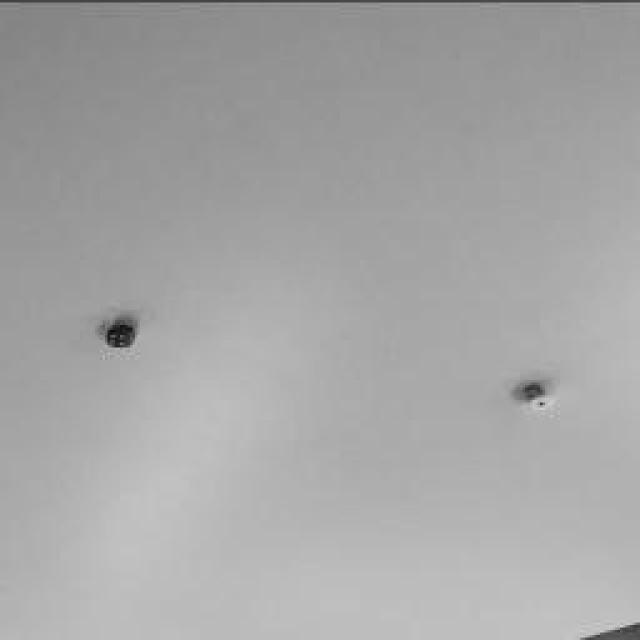dice_1: (528, 395, 554, 410)
dice_4: (106, 329, 129, 346)
